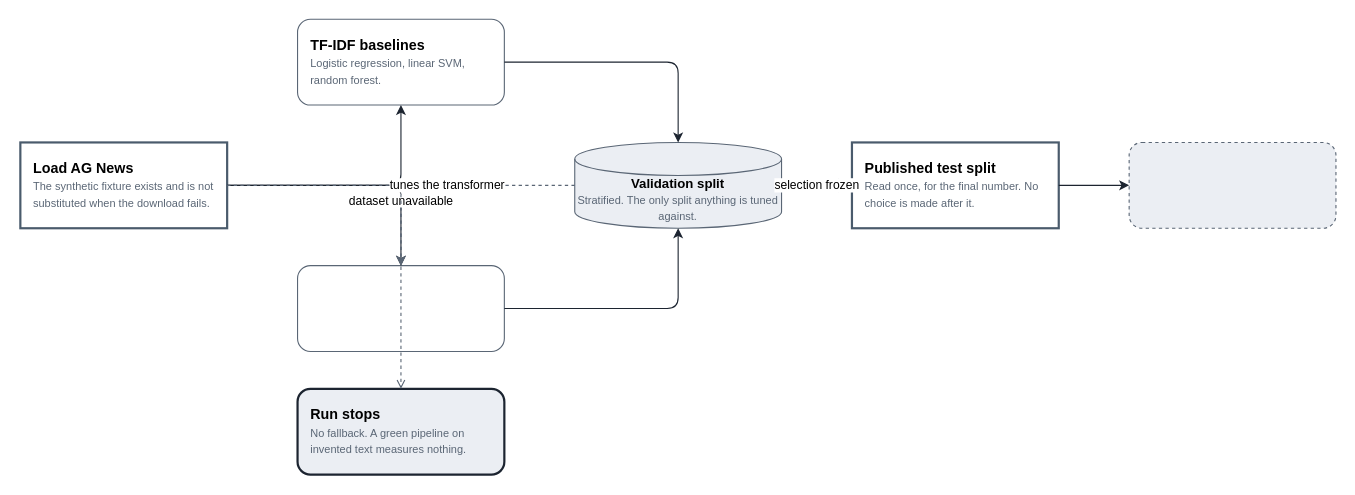
Image size: 1355x495. Some labels were removed from this diagram. Each missing label, with the box of its shape:
DistilBERT Fine-tuned through the Trainer.: (296, 265, 504, 351)
Metrics report Classification metrics and confusion matrices; latency optional.: (1128, 141, 1336, 228)
